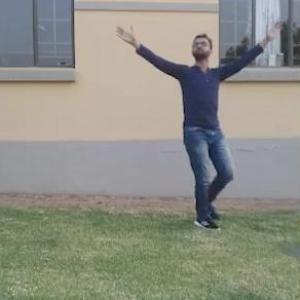takeoff: (115, 16, 284, 224)
